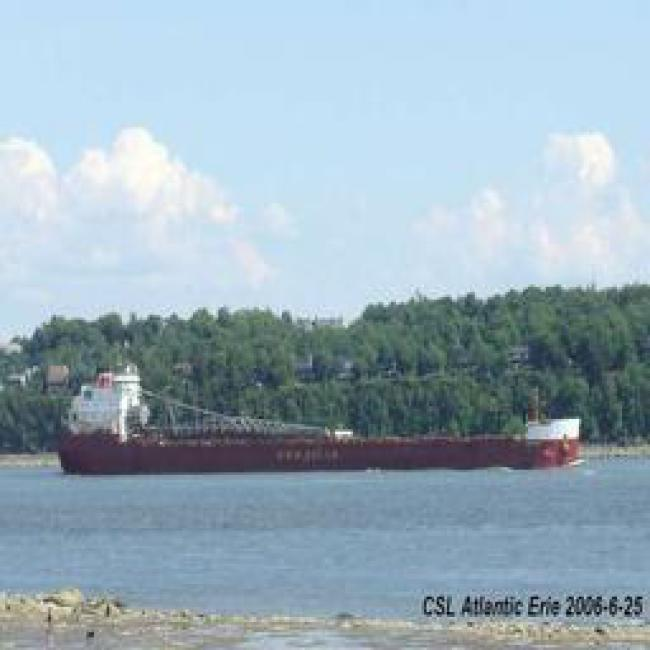Ship: (42, 367, 613, 479)
